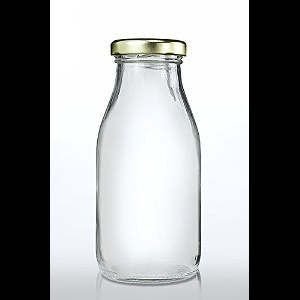emptybottle: (96, 38, 202, 284)
